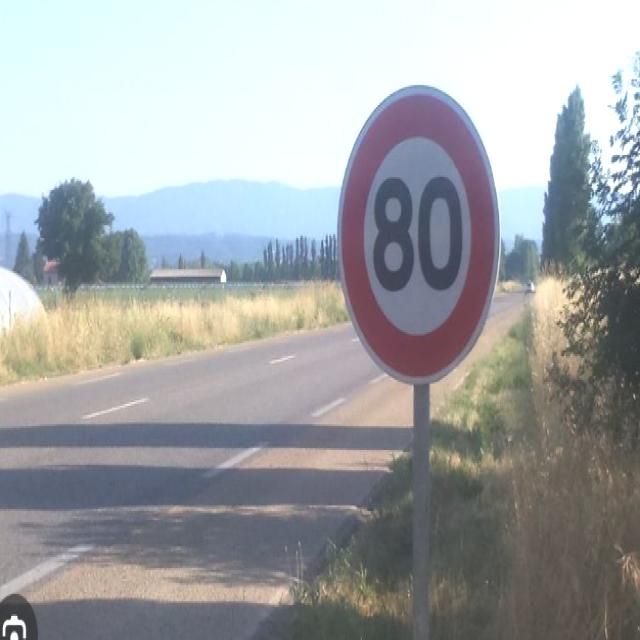speed_80: (336, 82, 503, 385)
